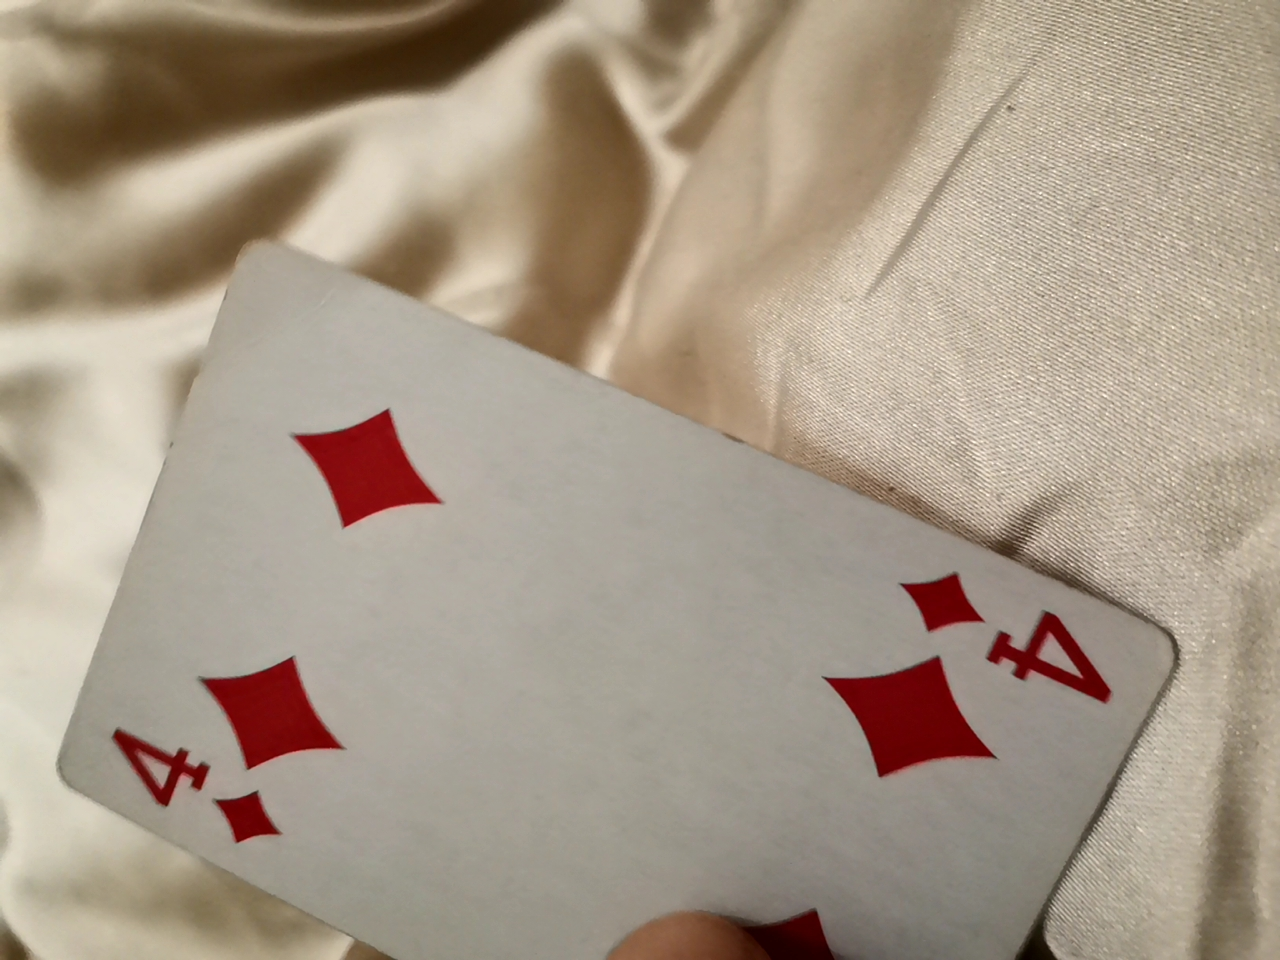fk 4: (41, 199, 1215, 955)
